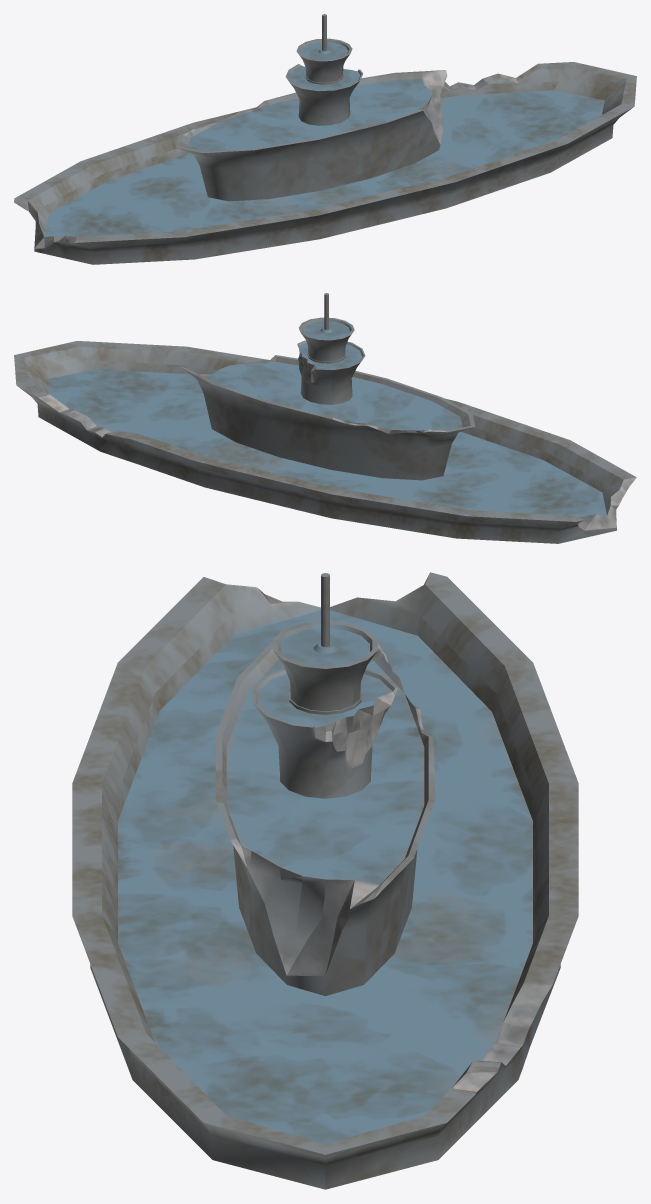
The model's file is Fountain.fbx.
3 views of the same model, one above another, from view 1: azimuth 30°, elevation 25°; view 2: azimuth 150°, elevation 25°; view 3: azimuth 270°, elevation 25° (orthographic). The views are drawn at different scales.
Visible parts, largest first — view 1: pCylinder1; view 2: pCylinder1; view 3: pCylinder1.
Boxes of the visible parts, x1,y1,x2,y2 form: pCylinder1: (14,14,636,264); pCylinder1: (14,293,636,543); pCylinder1: (72,572,578,1189).
Bounding box in the file's own units: 8.44 × 2.22 × 3.07.
